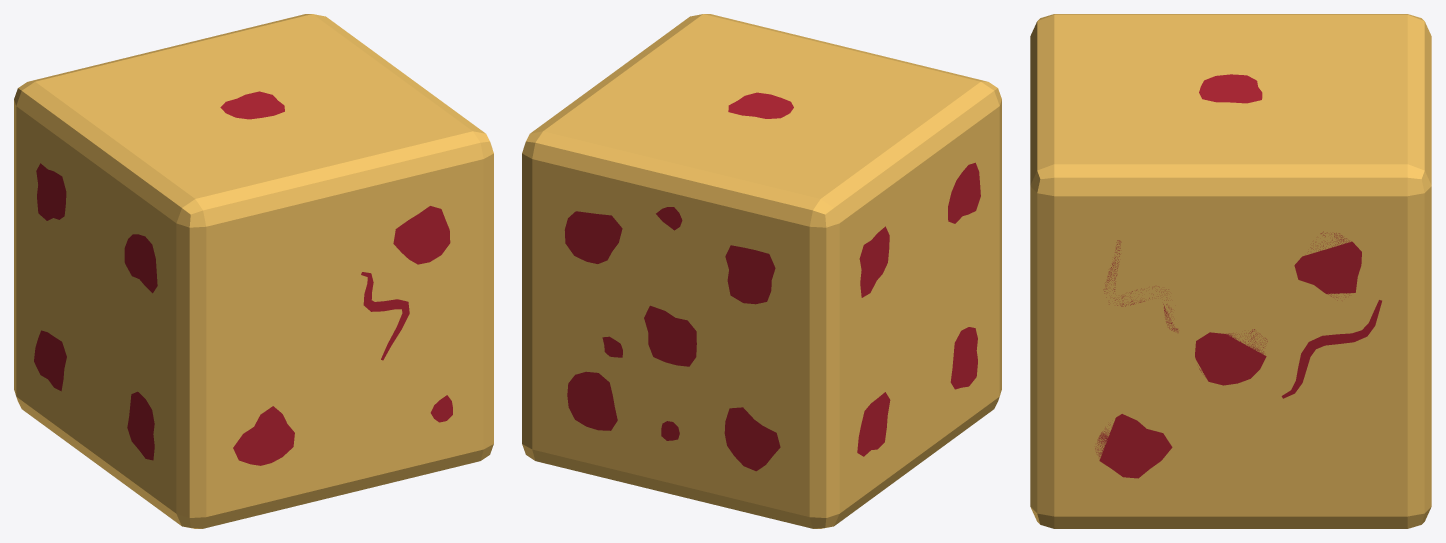
File: Die_RedWindsor_d6.fbx
The picture shows the model from 3 angles, left to right: view 1: azimuth 30°, elevation 25°; view 2: azimuth 150°, elevation 25°; view 3: azimuth 270°, elevation 25°; orthographic projection. The views are drawn at different scales.
Parts seen in each view (by area): view 1: Die_RedWindsor_d6; view 2: Die_RedWindsor_d6; view 3: Die_RedWindsor_d6.
Part boxes in pixels (x1,y1,x2,y2): Die_RedWindsor_d6: (14,14,493,528); Die_RedWindsor_d6: (522,14,1001,528); Die_RedWindsor_d6: (1030,14,1431,528).
Size of the model in its own units: 1 by 1 by 1.
